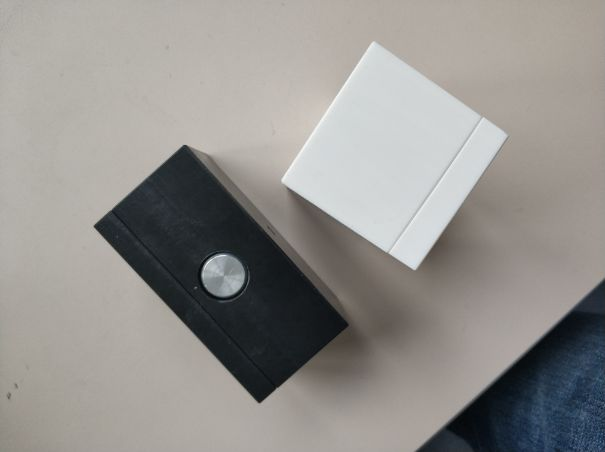black+black+silver: (87, 143, 355, 406)
